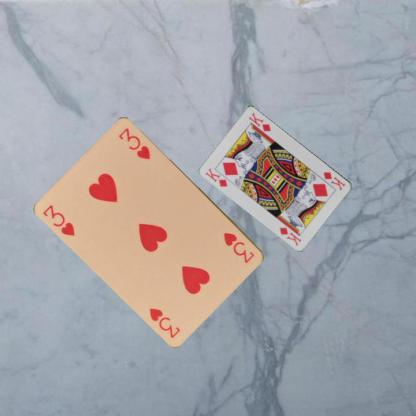3h: (40, 201, 76, 237), (221, 230, 256, 266)
Kd: (320, 169, 346, 192), (203, 166, 229, 188)
